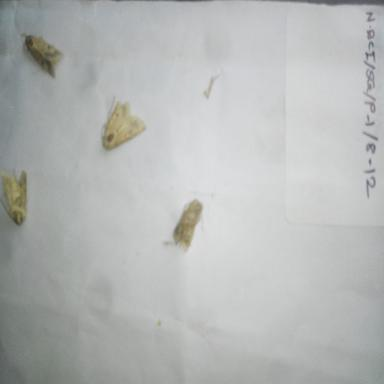abw: (97, 89, 148, 157), (166, 192, 207, 257), (19, 29, 68, 83), (0, 163, 29, 229)
